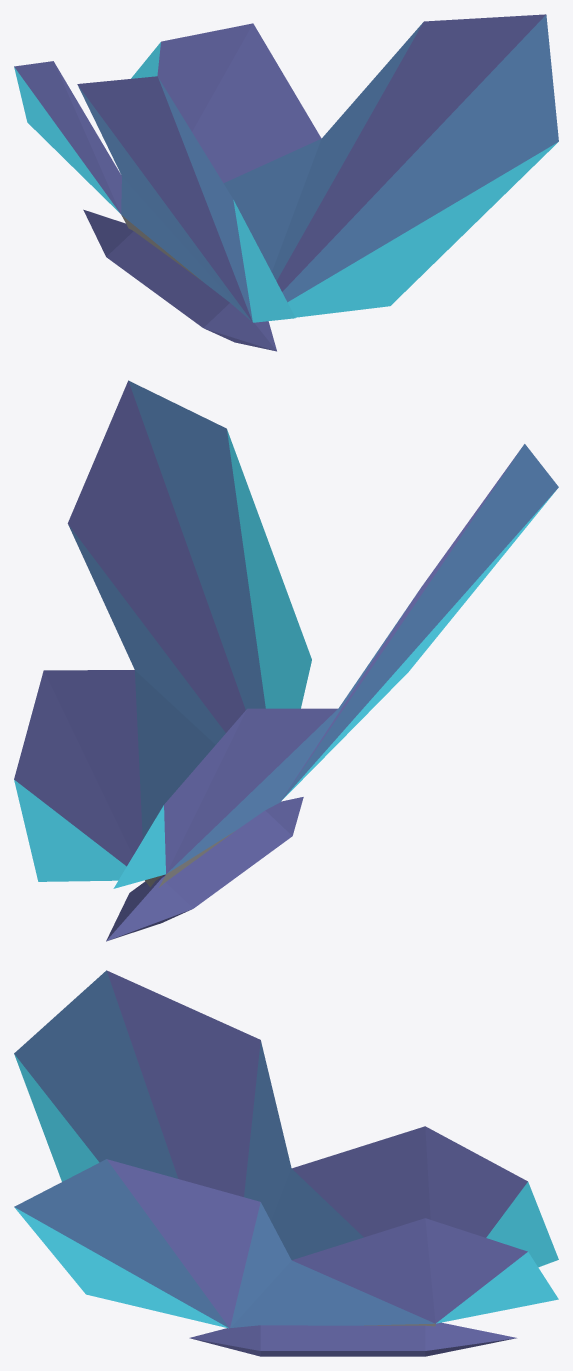
File: Butterfly.fbx
3 renders of one model, top to bottom at view 1: azimuth 30°, elevation 25°; view 2: azimuth 150°, elevation 25°; view 3: azimuth 270°, elevation 25°, orthographic. The views are drawn at different scales.
Visible parts, largest first — view 1: butterflyD_flyA; view 2: butterflyD_flyA; view 3: butterflyD_flyA.
Part boxes in pixels (x1,y1,x2,y2): butterflyD_flyA: (14,14,558,351); butterflyD_flyA: (14,380,558,941); butterflyD_flyA: (14,970,558,1356).
Size of the model in its own units: 370 by 340 by 530.
